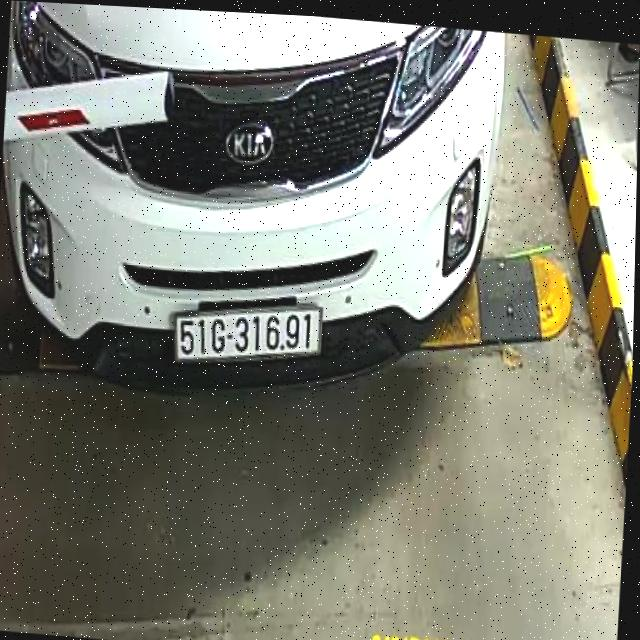car: (0, 0, 534, 413)
plate: (172, 297, 327, 374)
